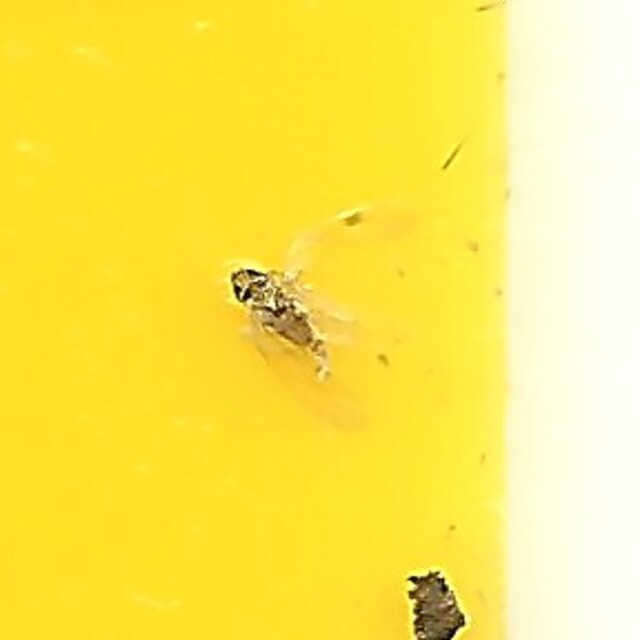Hemiptera: (222, 206, 418, 434)
